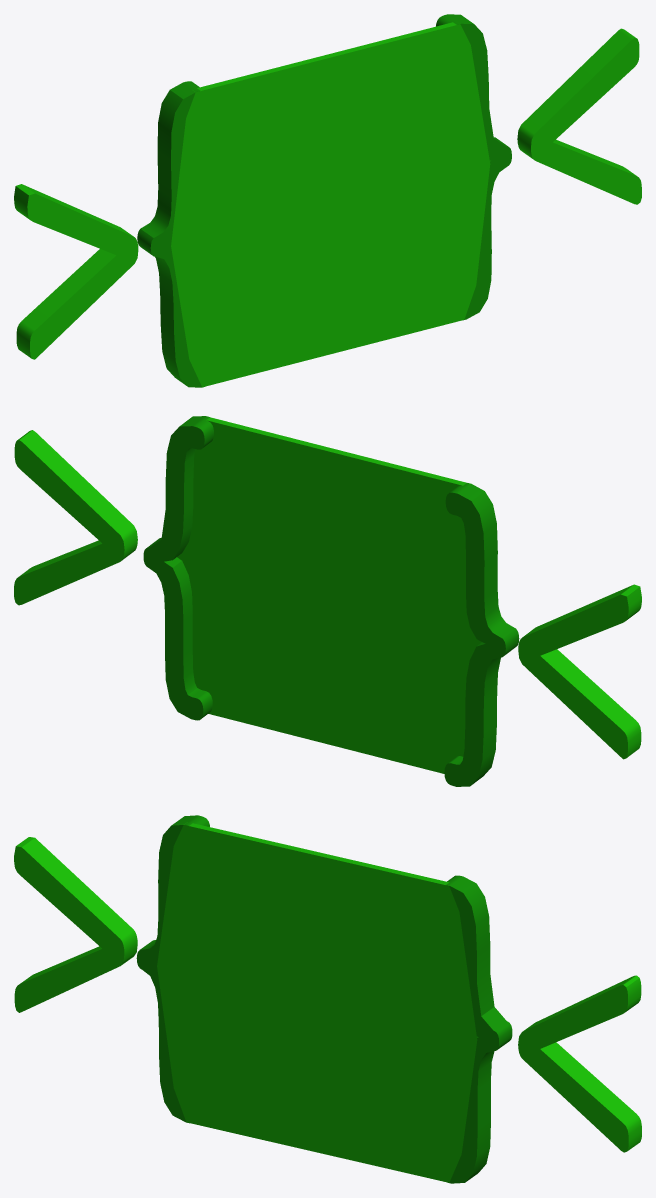
The model's file is AST_select3.fbx.
3 views of the same model, one above another, from view 1: azimuth 30°, elevation 25°; view 2: azimuth 150°, elevation 25°; view 3: azimuth 330°, elevation 25° (orthographic).
Visible parts, largest first — view 1: MSH_text_selectA2; view 2: MSH_text_selectA2; view 3: MSH_text_selectA2.
Part boxes in pixels (<box>): MSH_text_selectA2: <box>14,14,641,387</box>; MSH_text_selectA2: <box>14,416,641,786</box>; MSH_text_selectA2: <box>14,815,641,1183</box>.
Bounding box in the file's own units: 27.92 × 12.97 × 1.23.
